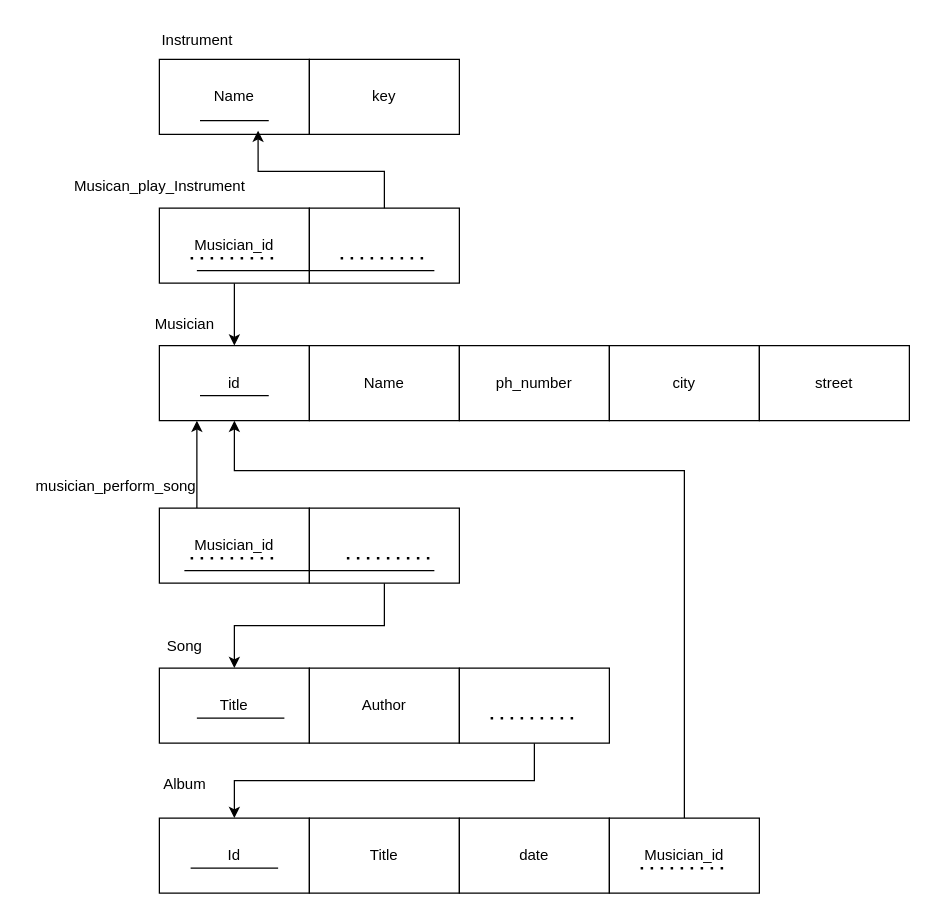
Some shapes in this 931 by 915 pixel diagram are drawn without their labels. Here are the shapes that lost their labels. From the top down, the box of each, then its label:
(308, 207, 459, 283): Instrument_Name
(308, 507, 459, 583): Song_title
(458, 667, 609, 743): Album_id
